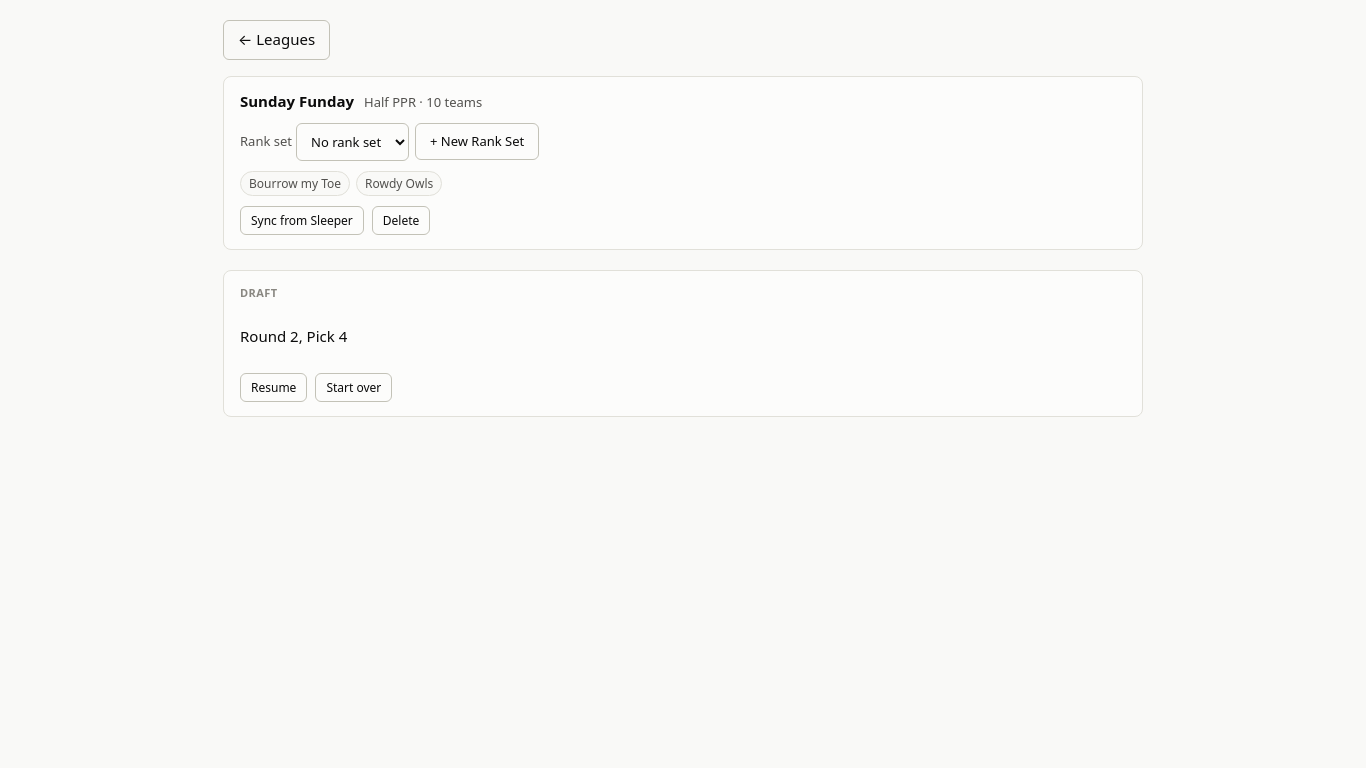
Test case: LeagueDetailPage › Resume mounts the board with a back-to-league control
Click the button "Resume" at (274, 388), box [240, 373, 307, 402]
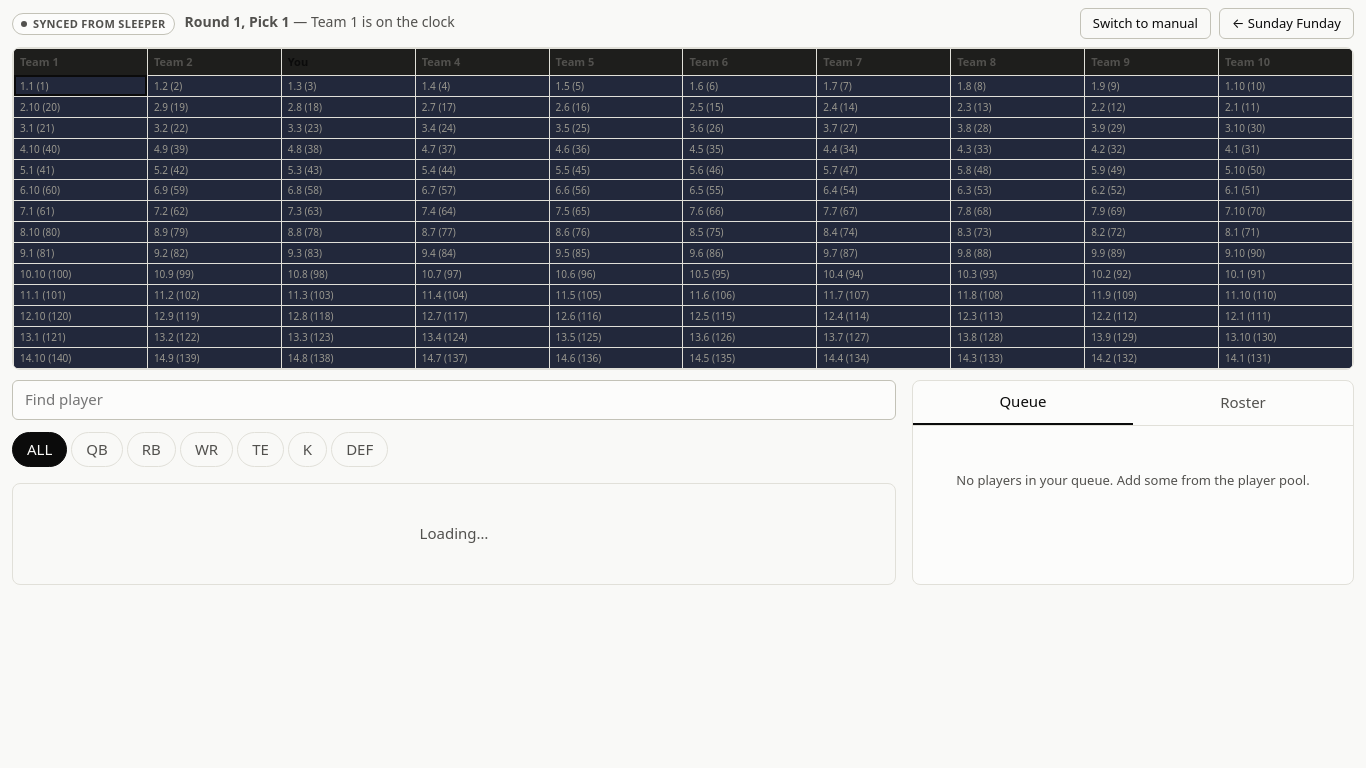
Check: the column heading "You" is shown, box [281, 48, 415, 75]
Check: the button "← Sunday Funday" is shown
Click the button "← Sunday Funday" at (1286, 23), box [1219, 8, 1354, 39]
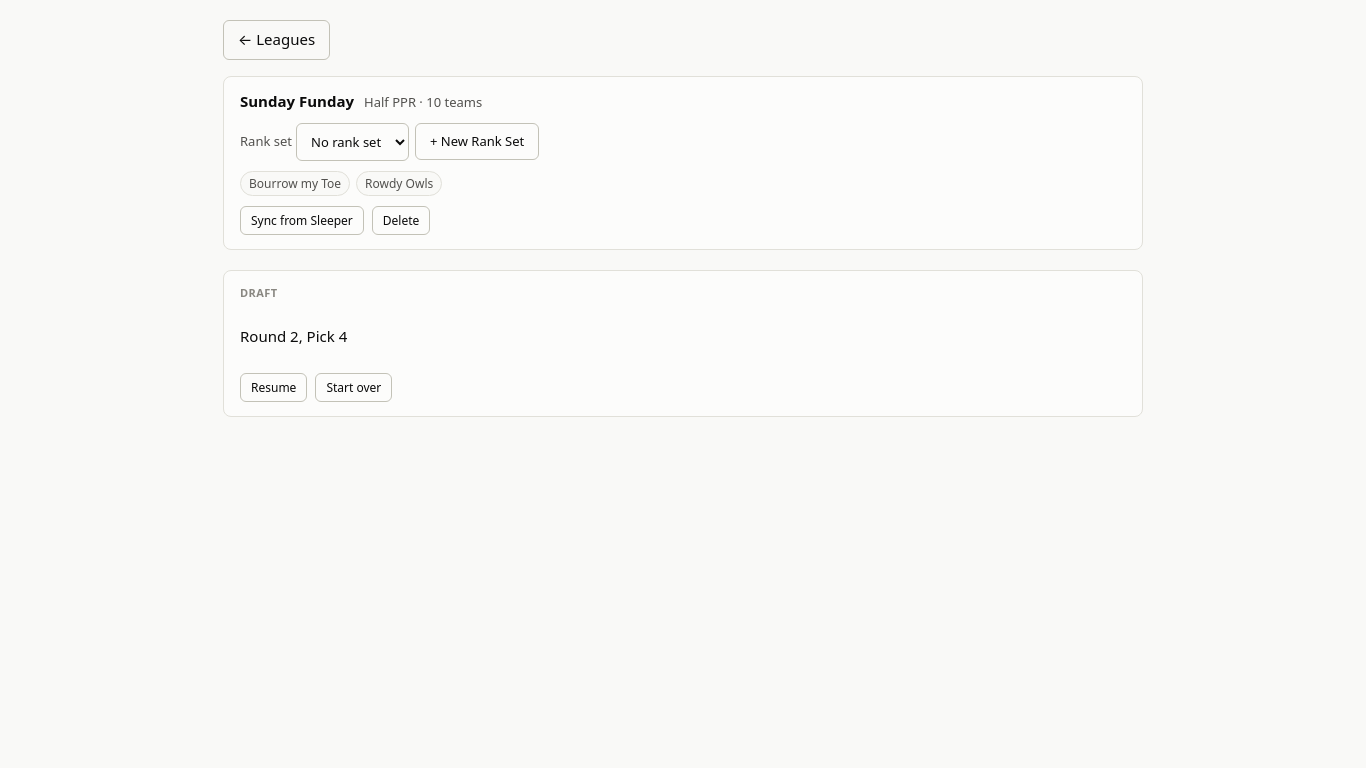
Check: the button "Resume" is shown, box [240, 373, 307, 402]
